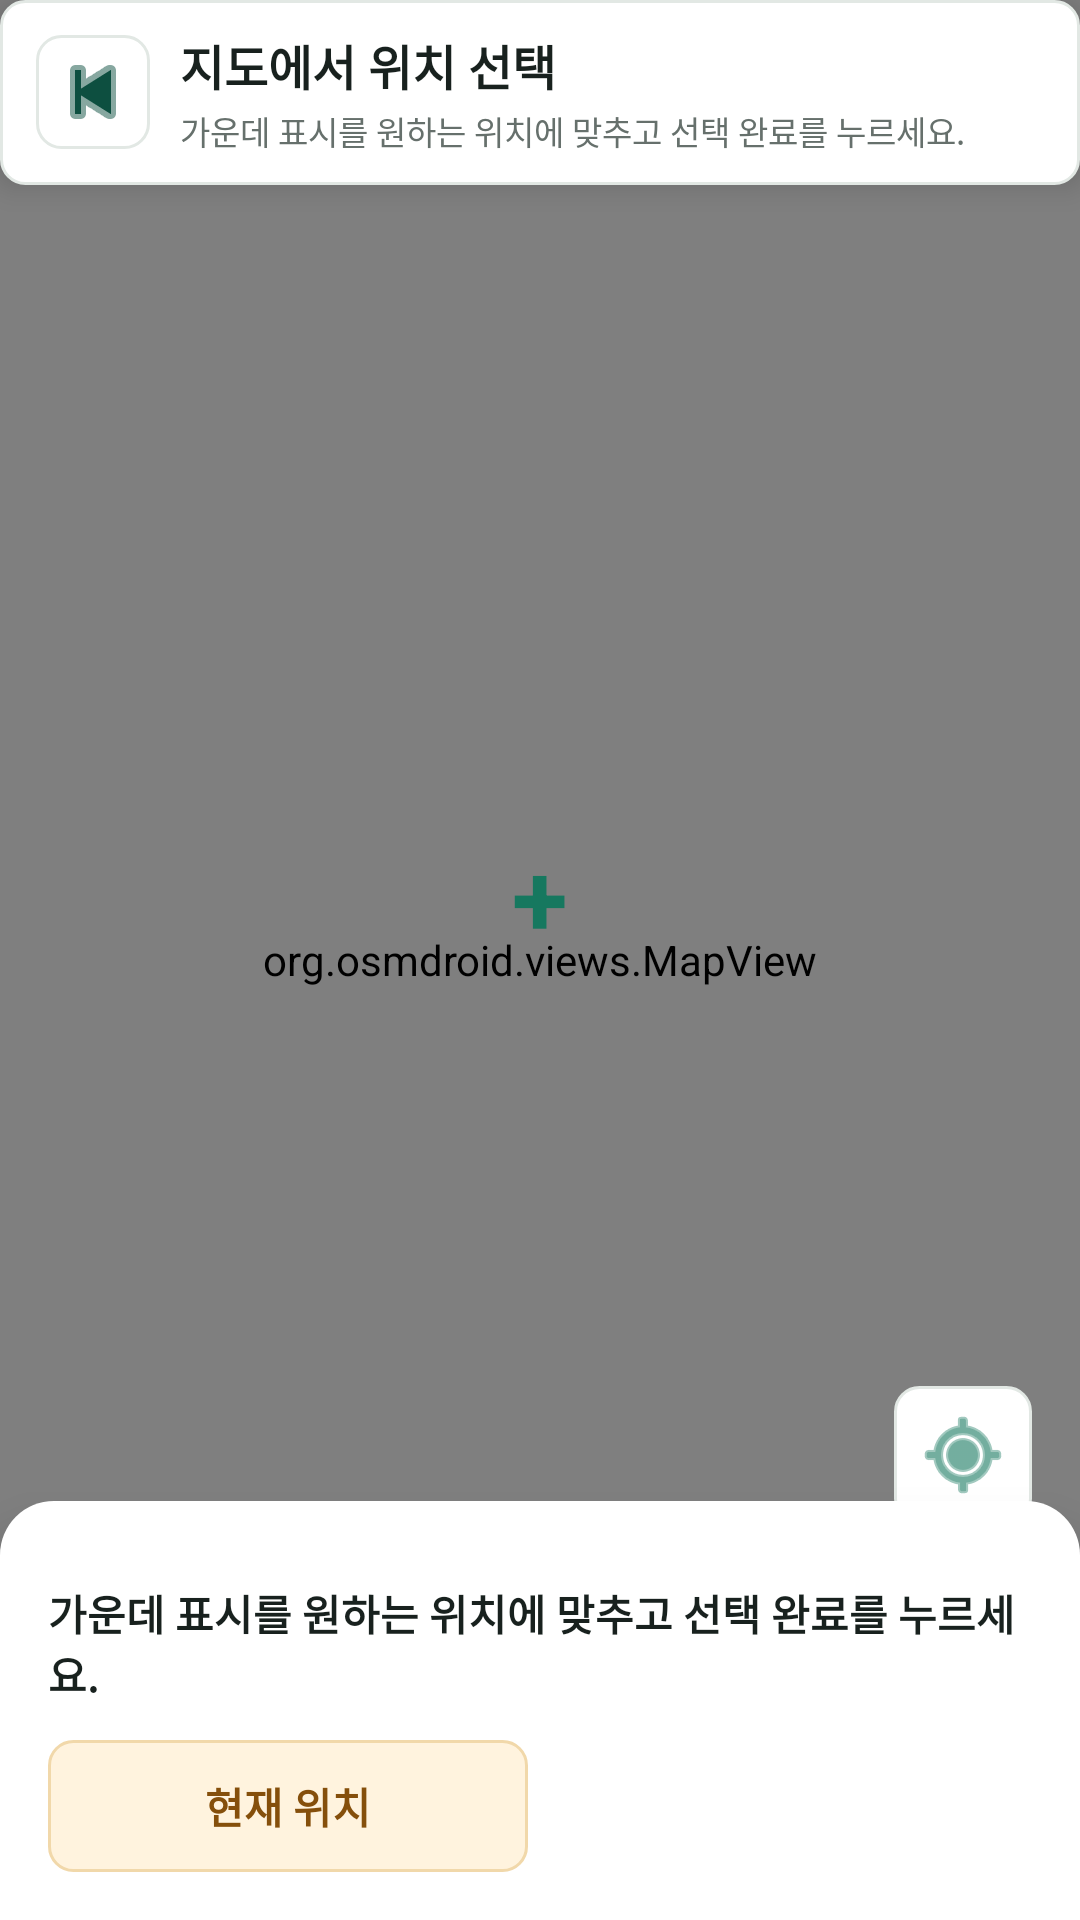

Icon bounding boxes for this 1080x1920 phone screenshot, format [left=x1, top=y1, right=x2, bottom=y2]:
뒤로가기: [left=36, top=35, right=150, bottom=149]
현재 위치: [left=894, top=1386, right=1032, bottom=1524]
